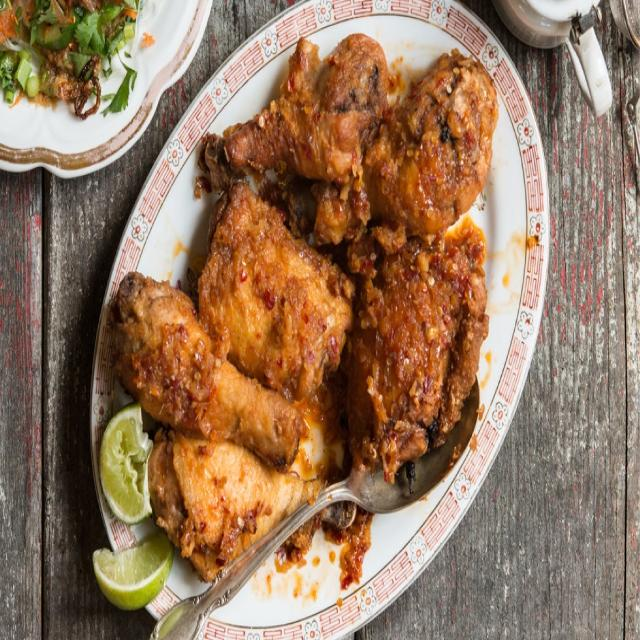Frango: (115, 31, 498, 584)
